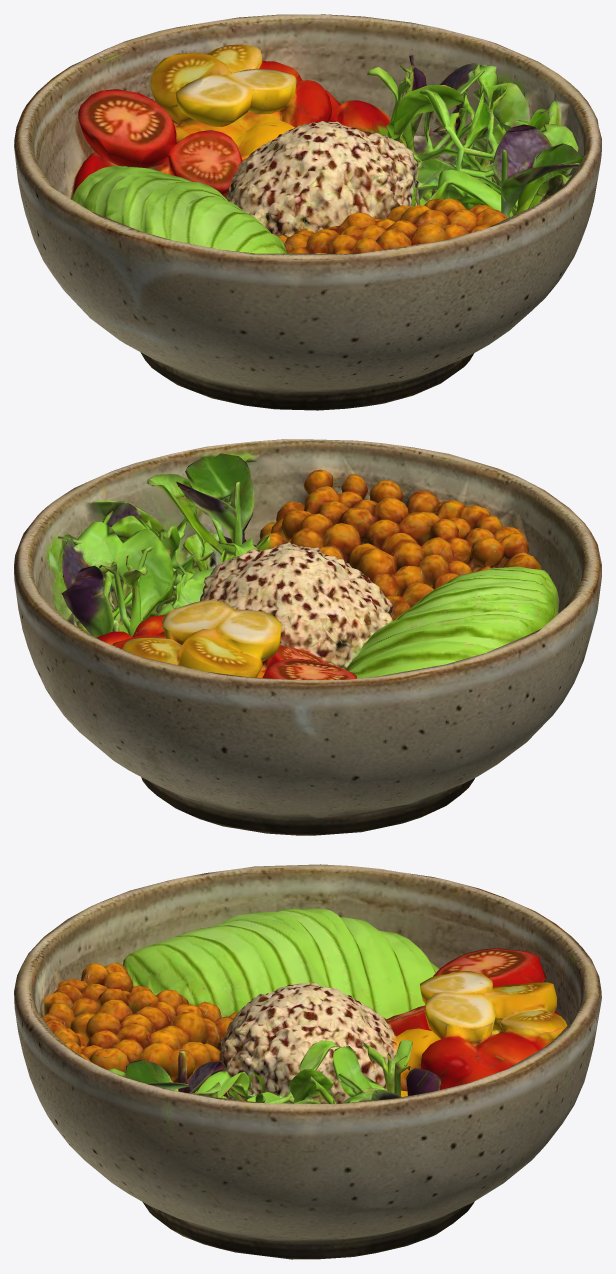
File: bowl-opt.glb
The picture shows the model from 3 angles, top to bottom: view 1: azimuth 30°, elevation 25°; view 2: azimuth 150°, elevation 25°; view 3: azimuth 270°, elevation 25°; orthographic projection.
Visible parts, largest first — view 1: Mesh_0; view 2: Mesh_0; view 3: Mesh_0.
Part boxes in pixels (x1,y1,x2,y2): Mesh_0: (14, 14, 601, 410); Mesh_0: (14, 439, 601, 835); Mesh_0: (14, 864, 601, 1259).
Size of the model in its own units: 1.9 by 0.8104 by 1.9.
Materials: 1 (1 with a texture image).
